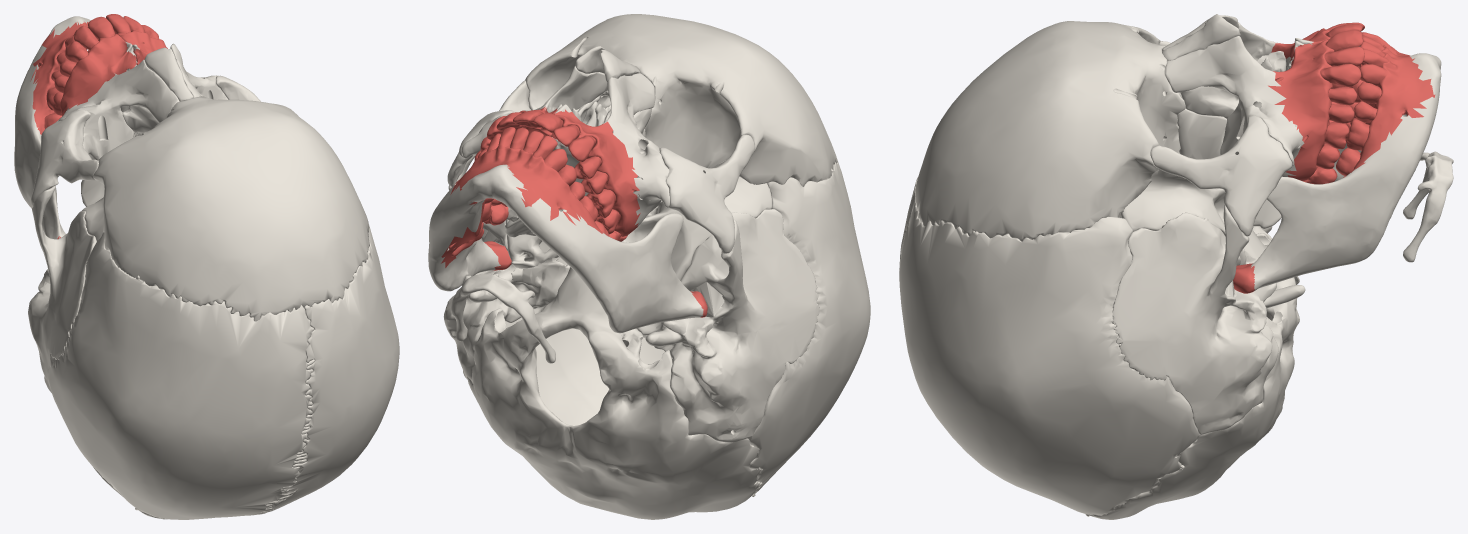
File: craniofacial.glb
The picture shows the model from 3 angles, left to right: view 1: azimuth 30°, elevation 25°; view 2: azimuth 150°, elevation 25°; view 3: azimuth 270°, elevation 25°; orthographic projection. The views are drawn at different scales.
Parts seen in each view (by area): view 1: bone.parietal.left, bone.frontal, bone.parietal.right, bone.temporal.left, bone.maxilla.left, bone.mandible, bone.zygomatic.left, maxillary-alveolar-process-left, mandibular-alveolar-process, bone.nasal.left, bone.sphenoid, maxillary-alveolar-process-right (+4 smaller); view 2: bone.occipital, bone.frontal, bone.temporal.left, bone.parietal.left, bone.mandible, bone.parietal.right, bone.zygomatic.left, bone.maxilla.left, bone.temporal.right, bone.sphenoid, mandibular-alveolar-process, maxillary-alveolar-process-left (+7 smaller); view 3: bone.parietal.right, bone.frontal, bone.temporal.right, bone.mandible, bone.occipital, bone.maxilla.right, bone.zygomatic.right, maxillary-alveolar-process-right, bone.sphenoid, mandibular-alveolar-process, bone.hyoid, bone.ethmoid (+4 smaller).
Part boxes in pixels (x1=…): bone.parietal.left: x1=47, y1=232, x2=314, y2=519; bone.frontal: x1=93, y1=96, x2=369, y2=321; bone.parietal.right: x1=261, y1=222, x2=399, y2=512; bone.temporal.left: x1=28, y1=186, x2=96, y2=392; bone.maxilla.left: x1=54, y1=41, x2=179, y2=160; bone.mandible: x1=14, y1=16, x2=90, y2=239; bone.zygomatic.left: x1=31, y1=109, x2=98, y2=205; maxillary-alveolar-process-left: x1=60, y1=34, x2=136, y2=116; mandibular-alveolar-process: x1=30, y1=21, x2=98, y2=134; bone.nasal.left: x1=144, y1=47, x2=193, y2=101; bone.sphenoid: x1=81, y1=180, x2=104, y2=241; maxillary-alveolar-process-right: x1=117, y1=30, x2=167, y2=64; bone.occipital: x1=467, y1=267, x2=762, y2=519; bone.frontal: x1=525, y1=14, x2=837, y2=186; bone.temporal.left: x1=636, y1=209, x2=819, y2=442; bone.parietal.left: x1=748, y1=159, x2=870, y2=496; bone.mandible: x1=428, y1=164, x2=703, y2=333; bone.parietal.right: x1=505, y1=241, x2=664, y2=425; bone.zygomatic.left: x1=659, y1=134, x2=754, y2=253; bone.maxilla.left: x1=552, y1=73, x2=669, y2=226; bone.temporal.right: x1=443, y1=155, x2=570, y2=380; bone.sphenoid: x1=505, y1=109, x2=772, y2=280; mandibular-alveolar-process: x1=441, y1=146, x2=612, y2=267; maxillary-alveolar-process-left: x1=551, y1=109, x2=640, y2=236; bone.parietal.right: x1=899, y1=198, x2=1198, y2=515; bone.frontal: x1=915, y1=21, x2=1185, y2=241; bone.temporal.right: x1=1112, y1=204, x2=1305, y2=434; bone.mandible: x1=1251, y1=53, x2=1441, y2=290; bone.occipital: x1=1085, y1=230, x2=1299, y2=519; bone.maxilla.right: x1=1164, y1=36, x2=1304, y2=176; bone.zygomatic.right: x1=1150, y1=115, x2=1292, y2=236; maxillary-alveolar-process-right: x1=1268, y1=39, x2=1334, y2=181; bone.sphenoid: x1=1120, y1=170, x2=1281, y2=265; mandibular-alveolar-process: x1=1345, y1=44, x2=1435, y2=172; bone.hyoid: x1=1403, y1=151, x2=1453, y2=262; bone.ethmoid: x1=1177, y1=93, x2=1226, y2=159.
Size of the model in its own units: 144 by 197 by 207.
